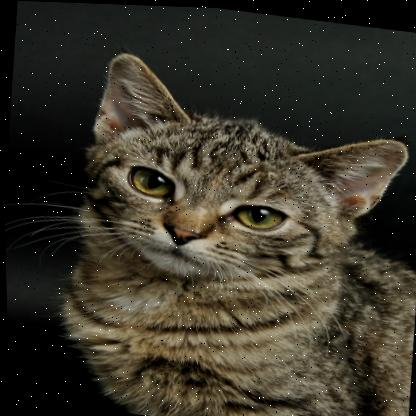cat: (1, 37, 416, 416)
